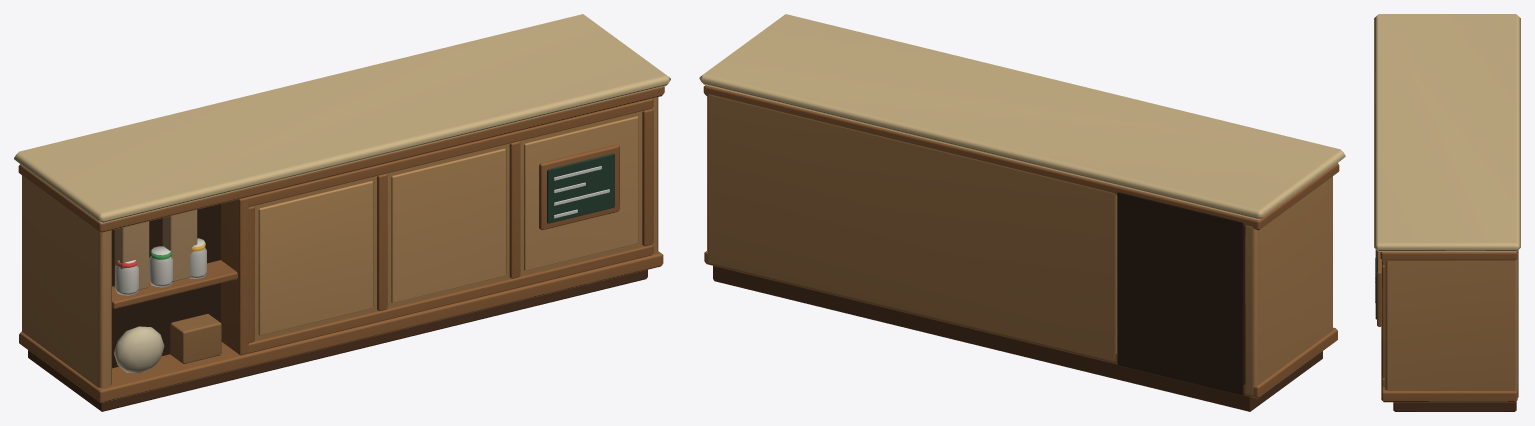
The model's file is furn_counter_shop.glb.
3 views of the same model, side by side, from view 1: azimuth 30°, elevation 25°; view 2: azimuth 150°, elevation 25°; view 3: azimuth 270°, elevation 25° (orthographic). The views are drawn at different scales.
Parts seen in each view (by area): view 1: furn_counter_shop_main; view 2: furn_counter_shop_main; view 3: furn_counter_shop_main.
Boxes of the visible parts, x1,y1,x2,y2 form: furn_counter_shop_main: (14, 14, 670, 411); furn_counter_shop_main: (699, 14, 1345, 411); furn_counter_shop_main: (1374, 14, 1520, 411).
Bounding box in the file's own units: 2.87 × 1 × 0.767.
